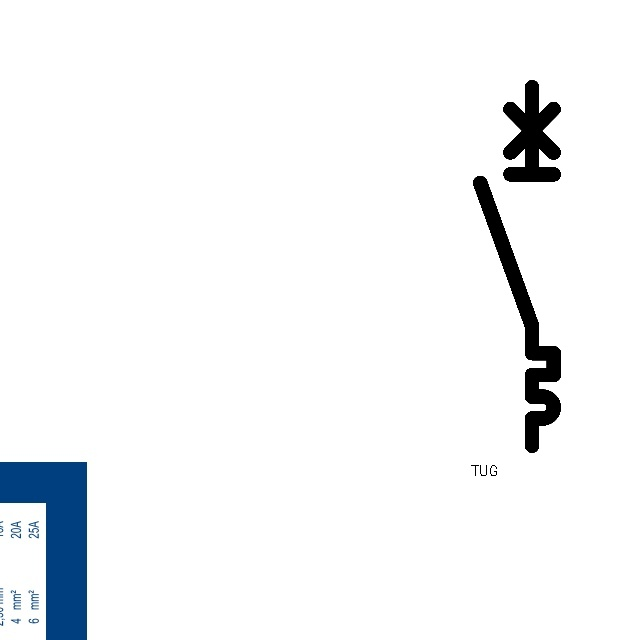interruptor_termomagnetico: (471, 78, 563, 455)
